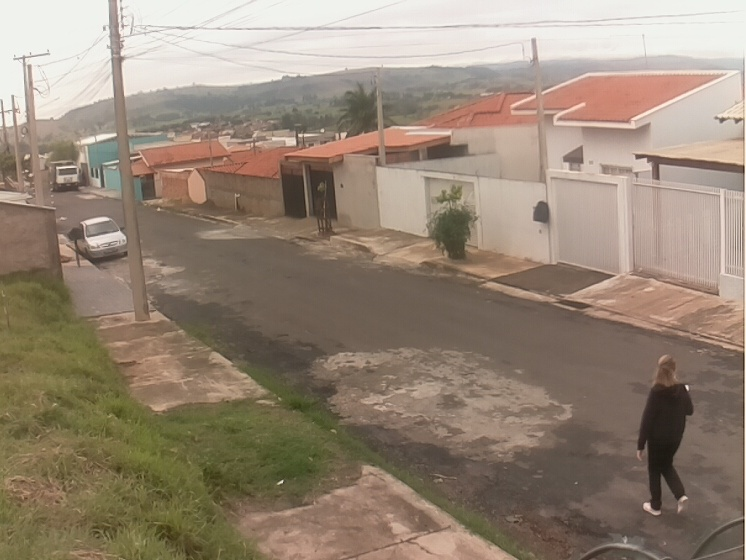person: (635, 353, 694, 517)
